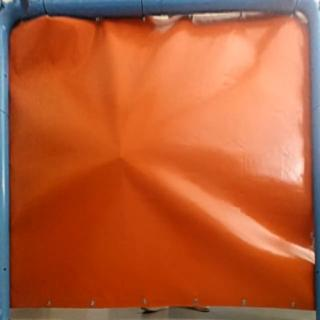Hit-hRxx: (113, 151, 129, 163)
